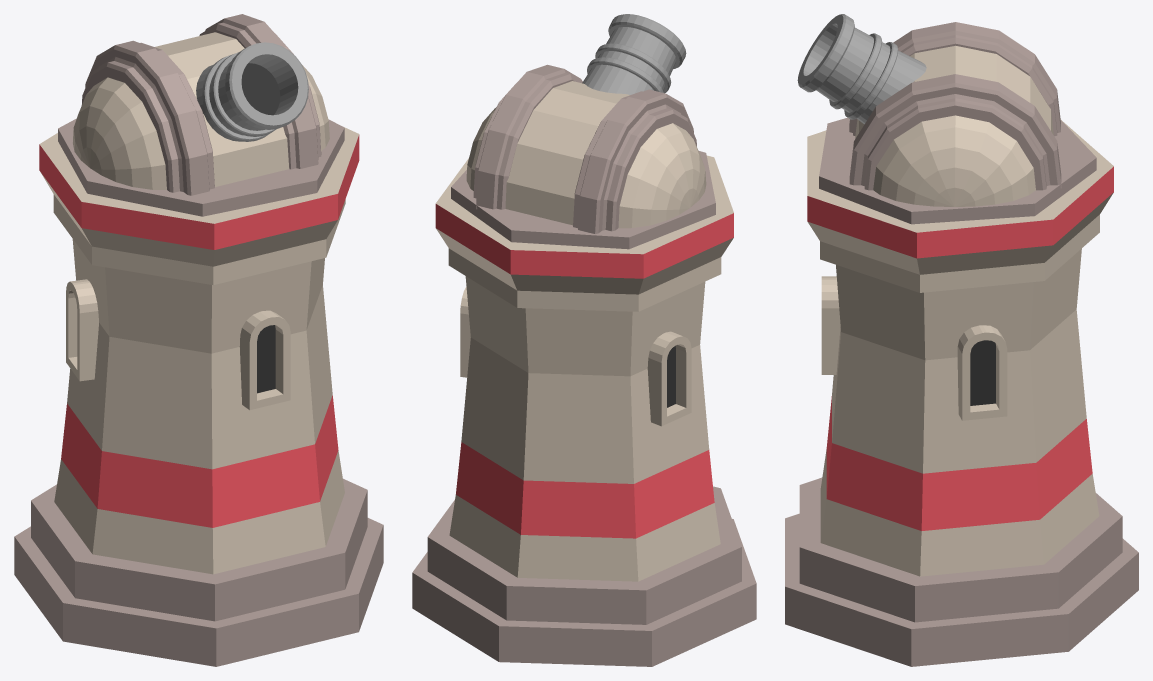
The model's file is towers.fbx.
3 renders of one model, left to right at view 1: azimuth 30°, elevation 25°; view 2: azimuth 150°, elevation 25°; view 3: azimuth 270°, elevation 25°, orthographic. The views are drawn at different scales.
Visible parts, largest first — view 1: Cylinder.005, Sphere, Cube.003, Cylinder.004, Cylinder.007, Cube.002, Cube.005, Cube.004; view 2: Cylinder.005, Sphere, Cube.003, Cylinder.007, Cylinder.004, Cube.005, Cube.004, Cube.006; view 3: Cylinder.005, Sphere, Cube.005, Cylinder.004, Cylinder.007, Cube.006, Cube.003, Cube.002.
Part boxes in pixels (x1,y1,x2,y2): Cylinder.005: (14, 127, 383, 666); Sphere: (73, 32, 329, 189); Cube.003: (82, 40, 214, 195); Cylinder.004: (196, 42, 308, 141); Cylinder.007: (58, 118, 344, 216); Cube.002: (239, 310, 290, 410); Cube.005: (199, 14, 321, 169); Cube.004: (66, 279, 98, 381); Cylinder.005: (412, 155, 756, 666); Sphere: (466, 81, 706, 228); Cube.003: (573, 89, 696, 233); Cylinder.007: (451, 151, 715, 249); Cylinder.004: (582, 14, 686, 94); Cube.005: (473, 64, 582, 209); Cube.004: (647, 331, 691, 426); Cube.006: (460, 286, 470, 377); Cylinder.005: (785, 120, 1138, 666); Sphere: (855, 45, 1053, 206); Cube.005: (849, 74, 1061, 190); Cylinder.004: (797, 14, 926, 124); Cylinder.007: (819, 117, 1096, 224); Cube.006: (957, 325, 1007, 420); Cube.003: (849, 22, 1060, 136); Cube.002: (821, 276, 840, 374).
Bounding box in the file's own units: 247 × 430 × 241.
